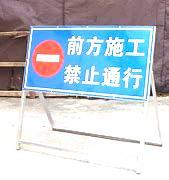sign: (23, 23, 151, 100)
